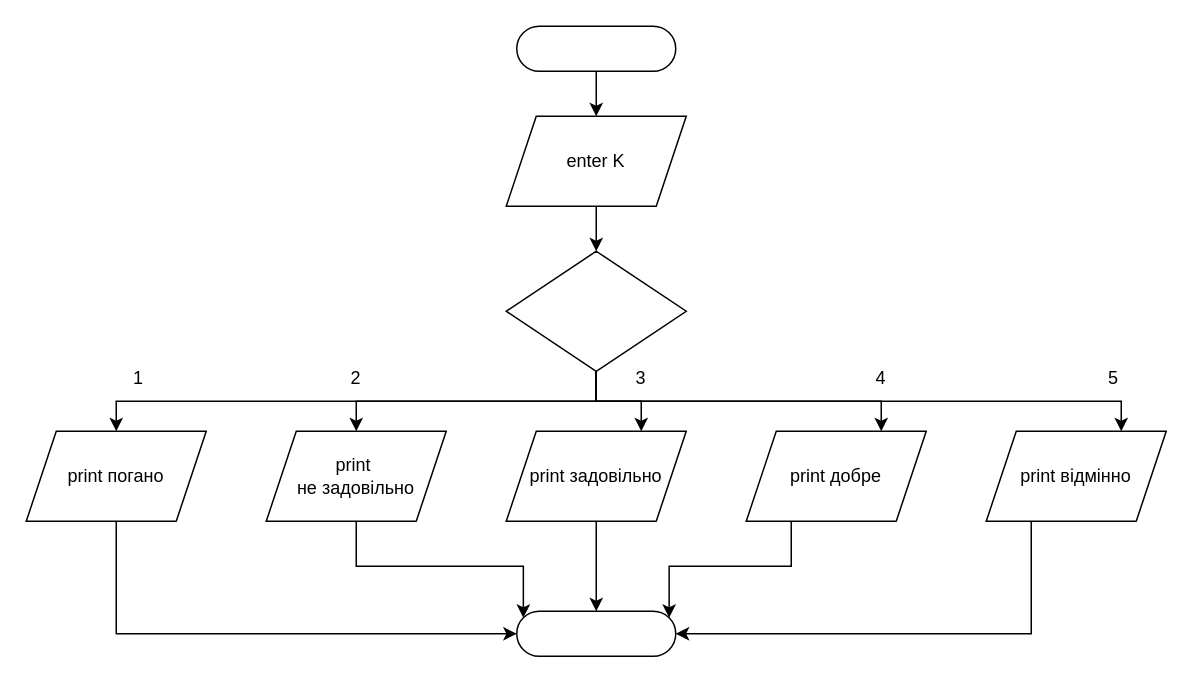
The diagram is 1193 pixels wide and 683 high, and some of its shapes have lost their labels. Each missing label, with the centre of its shape:
"0 < k < 6" goes at (x=595, y=310).
"end" goes at (x=595, y=633).
"start" goes at (x=595, y=48).
